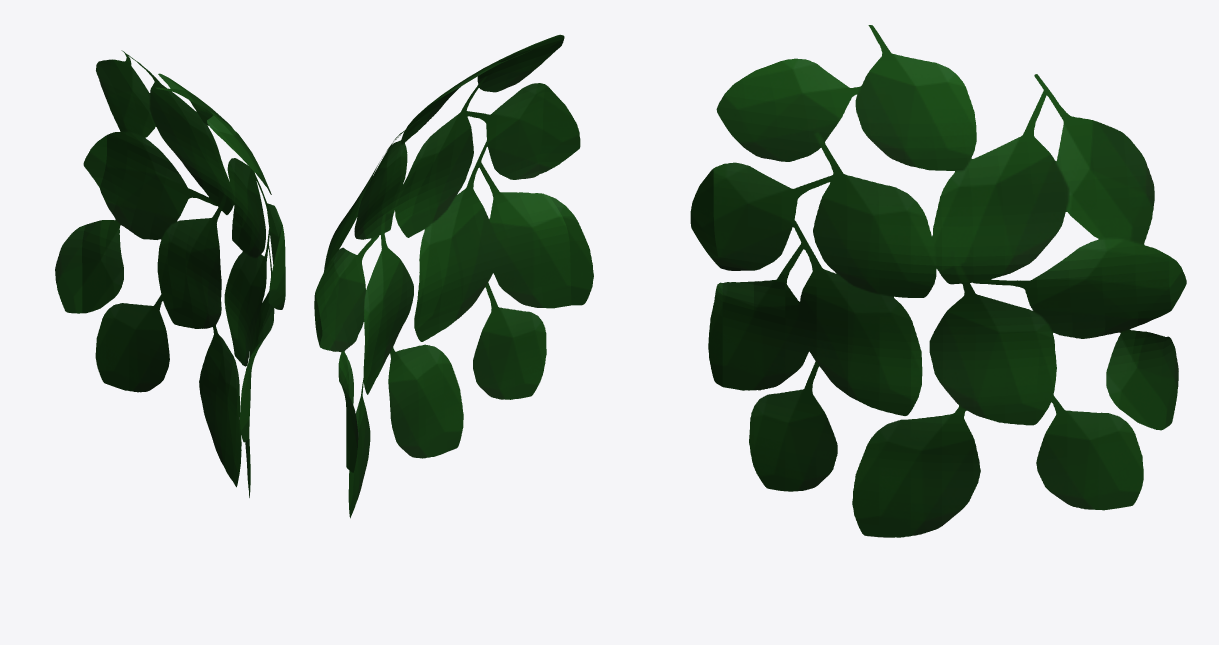
File: HangingVine3.fbx
3 renders of one model, left to right at view 1: azimuth 30°, elevation 25°; view 2: azimuth 150°, elevation 25°; view 3: azimuth 270°, elevation 25°, orthographic. The views are drawn at different scales.
Visible parts, largest first — view 1: Plane; view 2: Plane; view 3: Plane.
Boxes of the visible parts, <box> form: Plane: <box>55,50,285,497</box>; Plane: <box>314,34,593,518</box>; Plane: <box>690,25,1186,537</box>.
Bounding box in the file's own units: 99 × 315 × 268.
